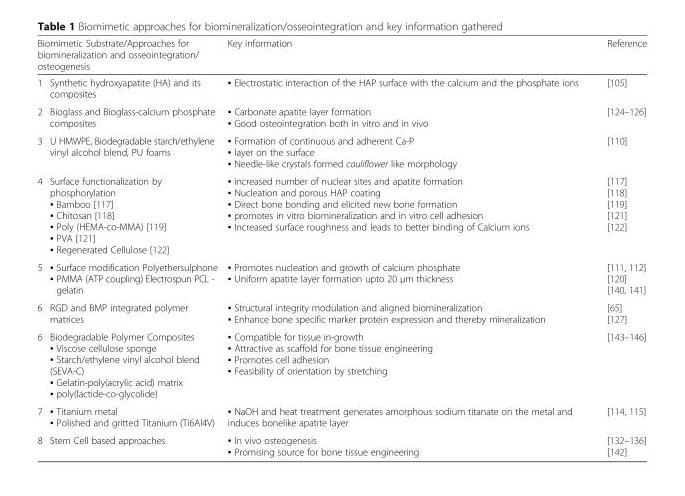table: (36, 37, 646, 457)
table column: (221, 37, 592, 457), (45, 37, 221, 457), (592, 37, 646, 457), (36, 37, 45, 457)
table column header: (36, 37, 646, 101)
table row: (36, 171, 646, 257), (36, 327, 646, 401), (36, 131, 646, 171), (36, 257, 646, 297), (36, 37, 646, 73), (36, 101, 646, 131), (36, 297, 646, 327), (36, 401, 646, 430), (36, 73, 646, 101), (36, 430, 646, 457)
table spanning cell: (221, 37, 592, 101), (36, 37, 221, 73), (592, 37, 646, 101)
